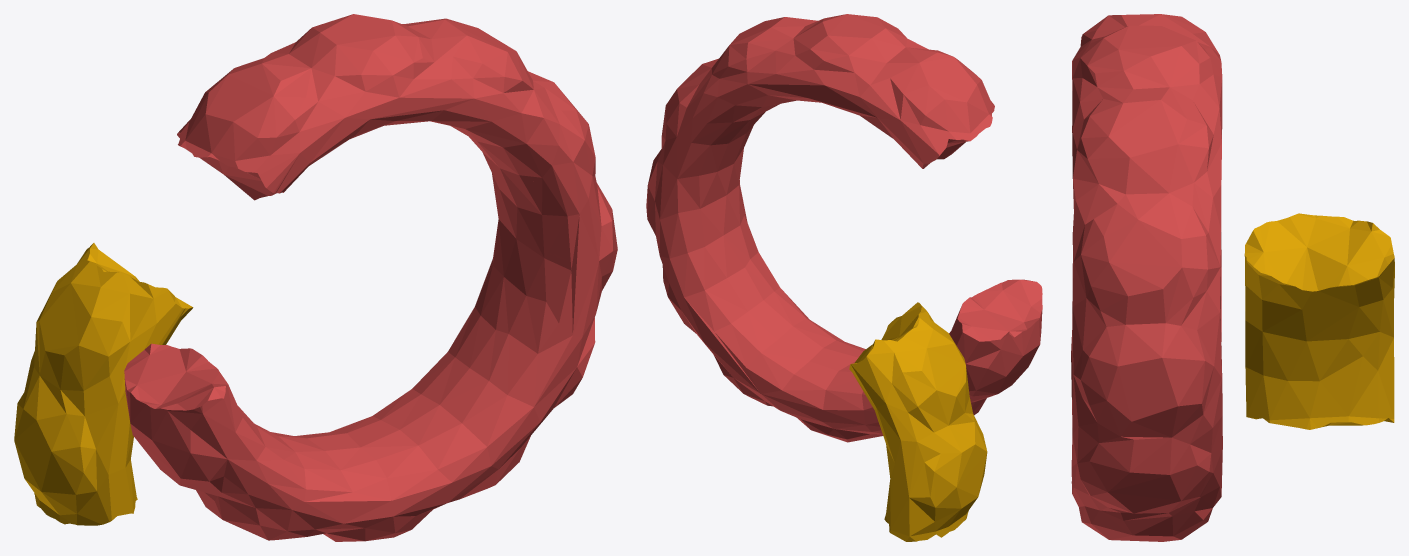
Rendered from fractured_64_2pcs_transformed.glb.
3 renders of one model, left to right at view 1: azimuth 30°, elevation 25°; view 2: azimuth 150°, elevation 25°; view 3: azimuth 270°, elevation 25°, orthographic. The views are drawn at different scales.
Visible parts, largest first — view 1: piece_1.obj, piece_0.obj; view 2: piece_1.obj, piece_0.obj; view 3: piece_1.obj, piece_0.obj.
Part boxes in pixels (<box>): piece_1.obj: <box>124,14,617,541</box>; piece_0.obj: <box>14,243,193,525</box>; piece_1.obj: <box>646,14,1042,442</box>; piece_0.obj: <box>849,302,987,541</box>; piece_1.obj: <box>1071,14,1222,541</box>; piece_0.obj: <box>1244,213,1394,429</box>.
Size of the model in its own units: 0.9998 by 1.01 by 0.6179.
